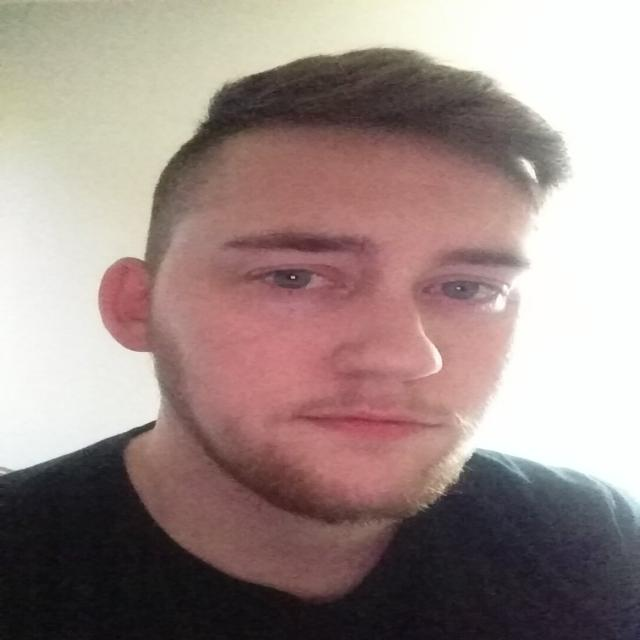earlobe: (111, 316, 156, 355)
eye: (255, 267, 348, 292), (423, 278, 504, 303)
nose: (336, 366, 451, 401)
wholeear: (97, 257, 156, 354)
